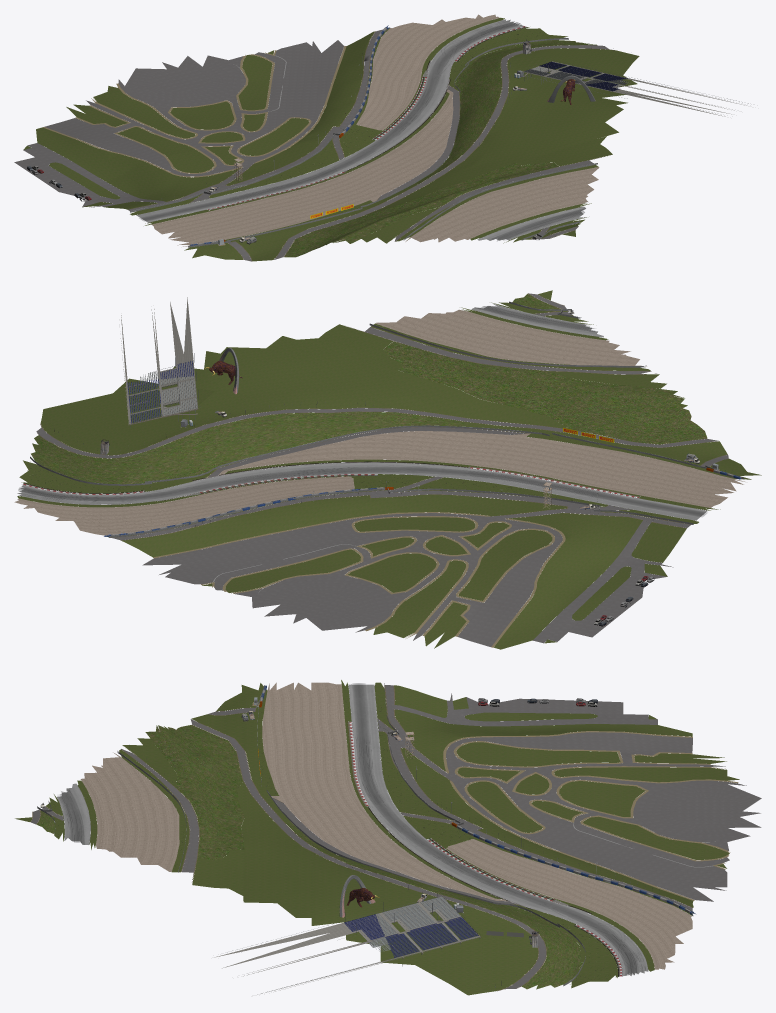
3 views of the same model, one above another, from view 1: azimuth 30°, elevation 25°; view 2: azimuth 150°, elevation 25°; view 3: azimuth 270°, elevation 25° (orthographic). The views are drawn at different scales.
Parts seen in each view (by area): view 1: tile_t05; view 2: tile_t05; view 3: tile_t05.
Boxes of the visible parts, <box> form: tile_t05: <box>14,14,748,261</box>; tile_t05: <box>14,290,761,649</box>; tile_t05: <box>15,680,761,995</box>.
Size of the model in its own units: 341 by 36.9 by 325.
Materials: 38 (38 with a texture image).
